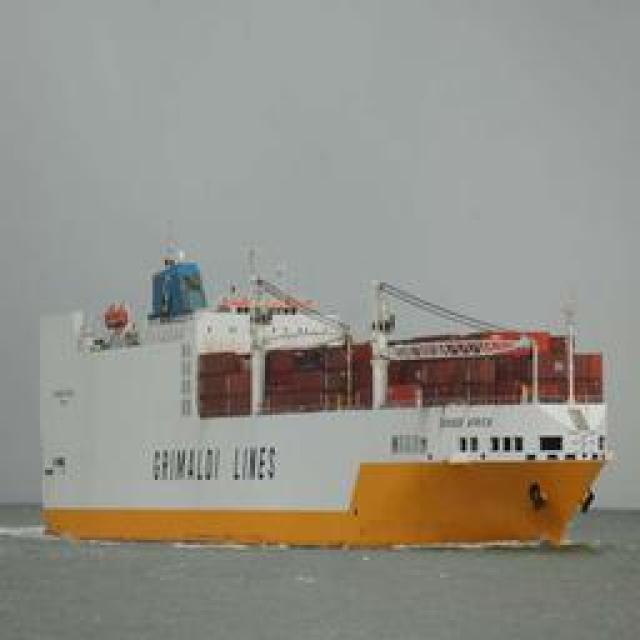CIV_Ship: (44, 248, 604, 544)
